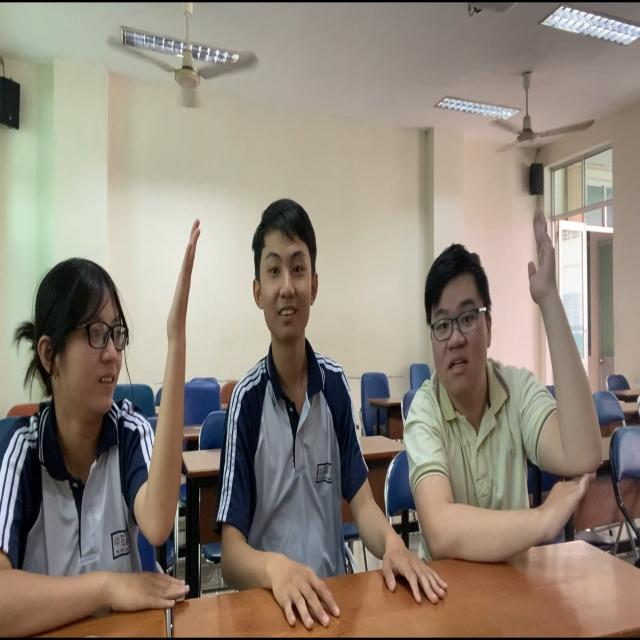raise_hand: (3, 176, 208, 623), (404, 190, 615, 590)
